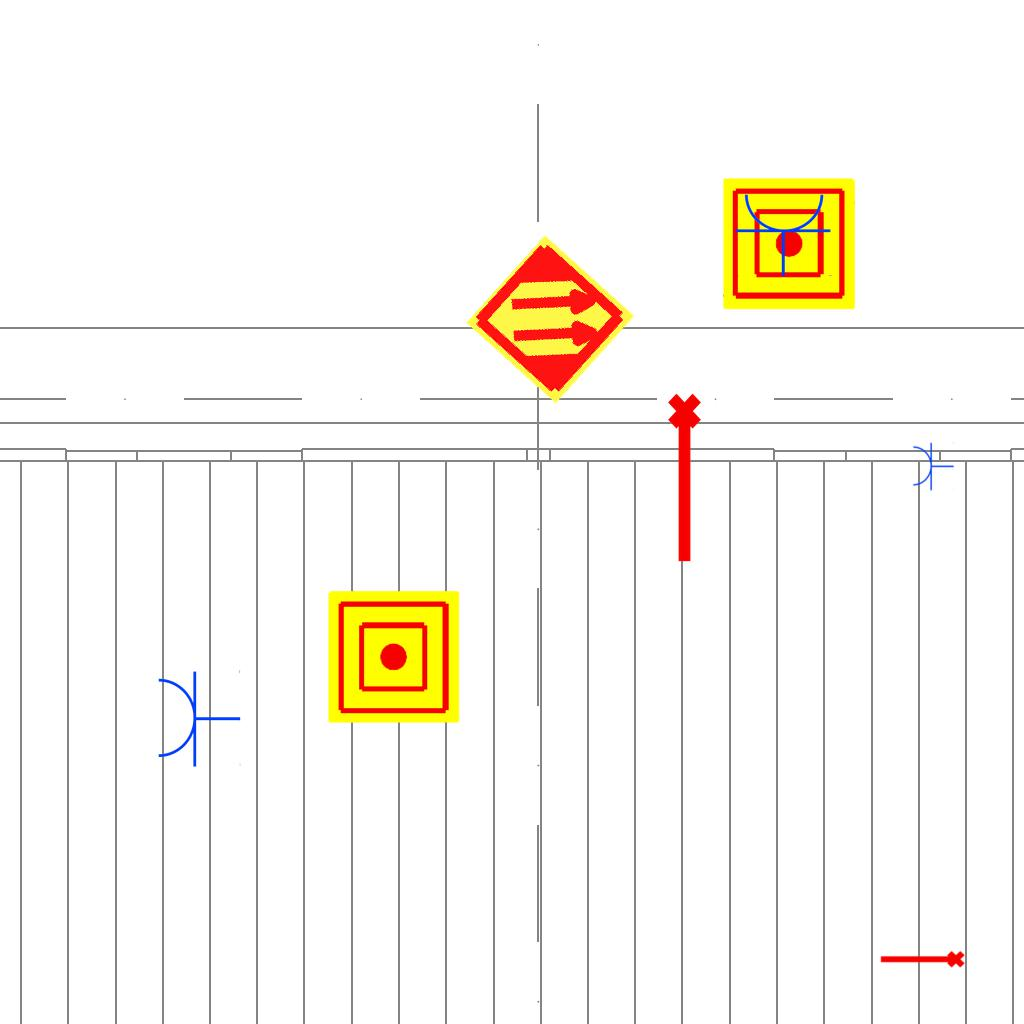ASR_Ansaugoeffnung: (664, 391, 710, 567), (878, 949, 966, 972)
ASR_Ansaugrauchmelder: (462, 231, 639, 408)
NAM-Nichtautomatischer_Melder: (328, 591, 460, 723), (723, 178, 855, 310)
Schukosteckdose_einfach: (154, 668, 241, 768), (734, 190, 834, 277), (911, 441, 954, 491)
